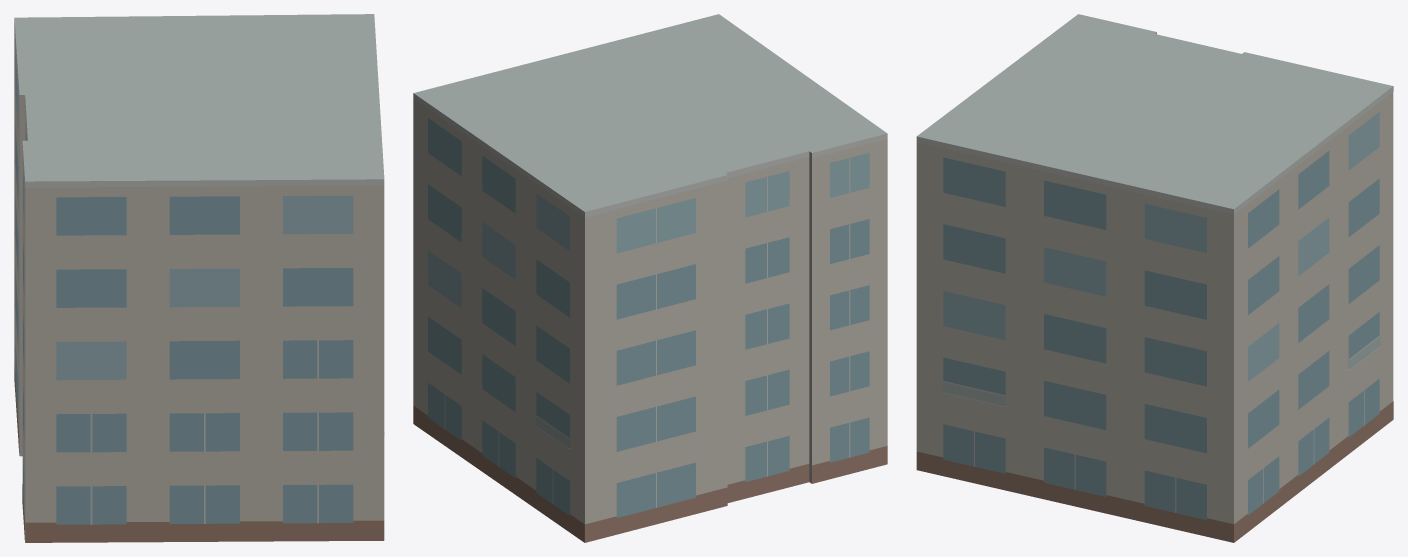
Rendered from survey-upis-32873661.glb.
3 views of the same model, side by side, from view 1: azimuth 30°, elevation 25°; view 2: azimuth 150°, elevation 25°; view 3: azimuth 270°, elevation 25° (orthographic). The views are drawn at different scales.
Visible parts, largest first — view 1: survey-upis-32873661.tmp; view 2: survey-upis-32873661.tmp; view 3: survey-upis-32873661.tmp.
Boxes of the visible parts, x1,y1,x2,y2 form: survey-upis-32873661.tmp: [14, 14, 384, 542]; survey-upis-32873661.tmp: [413, 14, 887, 542]; survey-upis-32873661.tmp: [916, 14, 1393, 542].
Bounding box in the file's own units: 18.21 × 14.5 × 18.79.
